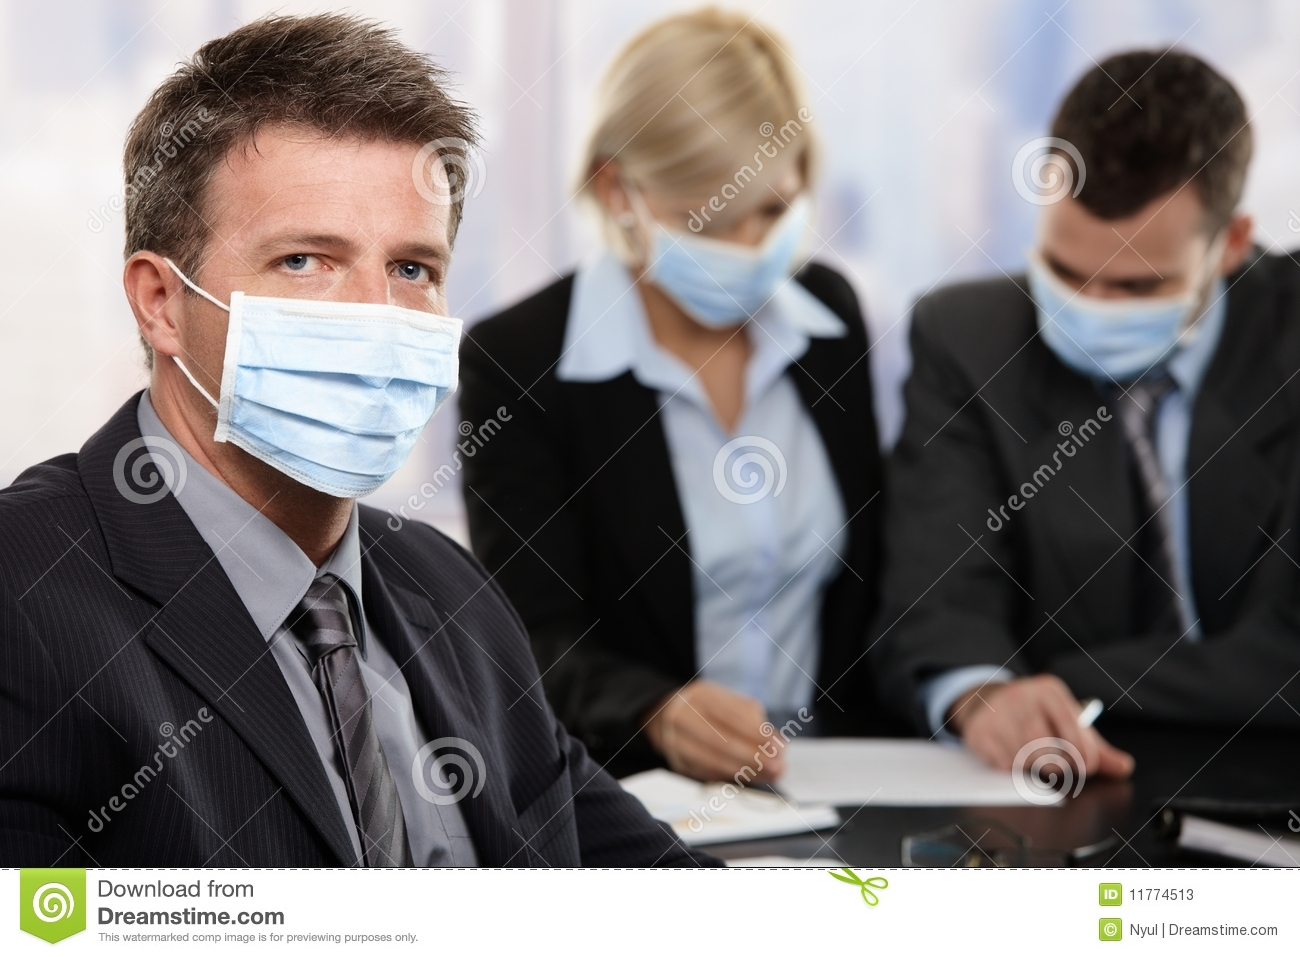mask: (210, 293, 465, 502)
